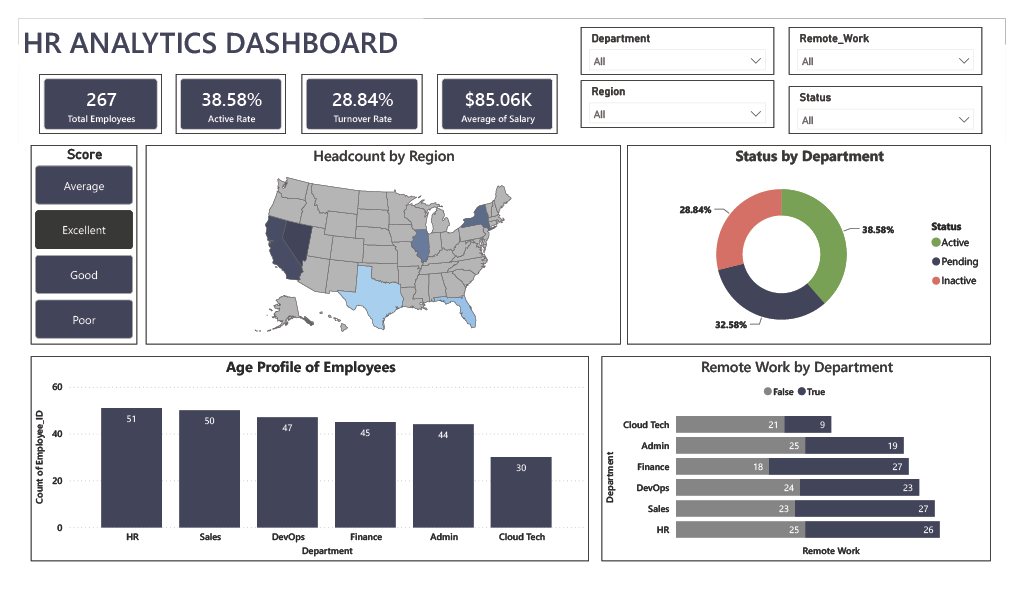

The dashboard page shown, as its layout file describes it:
{"tool":"powerbi","page":{"name":"Executive Summary","canvas":[1280,720],"ordinal":0},"visuals":[{"type":"textbox","box":[0,0,524.5,62.7],"z":0},{"type":"donutChart","title":"Status by Department","fields":{"Category":["Sheet4.Status"],"Y":["CountNonNull(Sheet4.Department)"]},"box":[788.8,163.8,472.5,258.8],"z":1000},{"type":"columnChart","title":"Age Profile of Employees","fields":{"Category":["Sheet4.Department"],"Y":["CountNonNull(Sheet4.Employee_ID)"]},"box":[16.2,437.5,723.8,266.2],"z":2000},{"type":"barChart","title":"  Remote Work by Department","fields":{"Category":["Sheet4.Department"],"Series":["Sheet4.Remote_Work"],"Y":["CountNonNull(Sheet4.Remote_Work)"]},"box":[756.2,437.5,505,266.2],"z":3000},{"type":"shapeMap","title":"Headcount by Region ","fields":{"Category":["Sheet4.Region"],"Value":["CountNonNull(Sheet4.Employee_ID)"]},"box":[165,163.8,616.2,258.8],"z":4000},{"type":"advancedSlicerVisual","fields":{"Values":["Sheet4.Performance_Score"]},"box":[16.2,163.8,137.5,258.8],"z":5000},{"type":"cardVisual","fields":{"Data":["Sheet4.Total Employees"]},"box":[26.7,72.2,158.9,77.8],"z":6000},{"type":"cardVisual","fields":{"Data":["Sheet4.Turnover Rate"]},"box":[366.7,72.2,157.8,77.8],"z":7000},{"type":"cardVisual","fields":{"Data":["Avg(Sheet4.Salary)"]},"box":[543.3,72.2,155.6,77.8],"z":8000},{"type":"cardVisual","fields":{"Data":["Sheet4.Active Rate"]},"box":[204.4,72.2,142.2,77.8],"z":9000},{"type":"slicer","fields":{"Values":["Sheet4.Department"]},"box":[728.9,11.1,251.1,62.2],"z":10000},{"type":"slicer","fields":{"Values":["Sheet4.Region"]},"box":[728.9,80,251.1,62.2],"z":11000},{"type":"slicer","fields":{"Values":["Sheet4.Remote_Work"]},"box":[998.9,11.1,251.1,62.2],"z":12000},{"type":"slicer","fields":{"Values":["Sheet4.Status"]},"box":[998.9,87.8,251.1,62.2],"z":13000}]}

Visuals, with their boxes in screenshot pixels (x1, y1, x2, y2), scaled from the page's 1280x720 canvas onto the 1024x592 screenshot:
textbox: [left=0, top=0, right=420, bottom=52]
"Status by Department" donutChart: [left=631, top=135, right=1009, bottom=347]
"Age Profile of Employees" columnChart: [left=13, top=360, right=592, bottom=579]
"  Remote Work by Department" barChart: [left=605, top=360, right=1009, bottom=579]
"Headcount by Region " shapeMap: [left=132, top=135, right=625, bottom=347]
advancedSlicerVisual - Sheet4.Performance_Score: [left=13, top=135, right=123, bottom=347]
cardVisual - Sheet4.Total Employees: [left=21, top=59, right=148, bottom=123]
cardVisual - Sheet4.Turnover Rate: [left=293, top=59, right=420, bottom=123]
cardVisual - Avg(Sheet4.Salary): [left=435, top=59, right=559, bottom=123]
cardVisual - Sheet4.Active Rate: [left=164, top=59, right=277, bottom=123]
slicer - Sheet4.Department: [left=583, top=9, right=784, bottom=60]
slicer - Sheet4.Region: [left=583, top=66, right=784, bottom=117]
slicer - Sheet4.Remote_Work: [left=799, top=9, right=1000, bottom=60]
slicer - Sheet4.Status: [left=799, top=72, right=1000, bottom=123]
